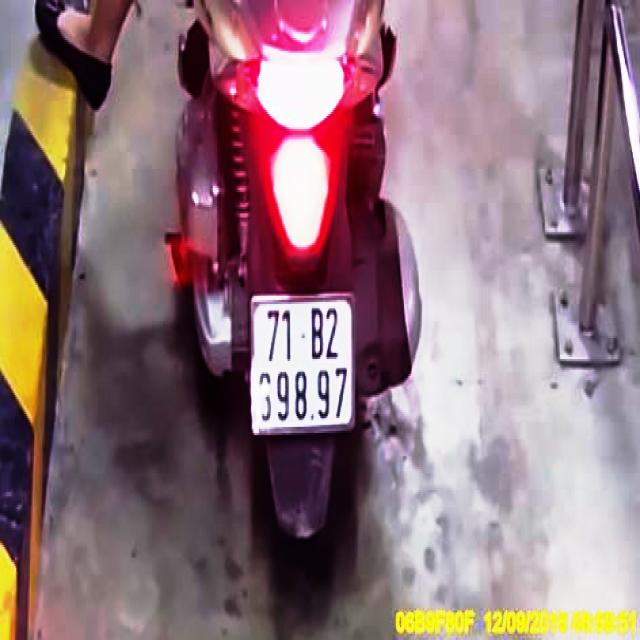license_plate: (254, 296, 353, 430)
